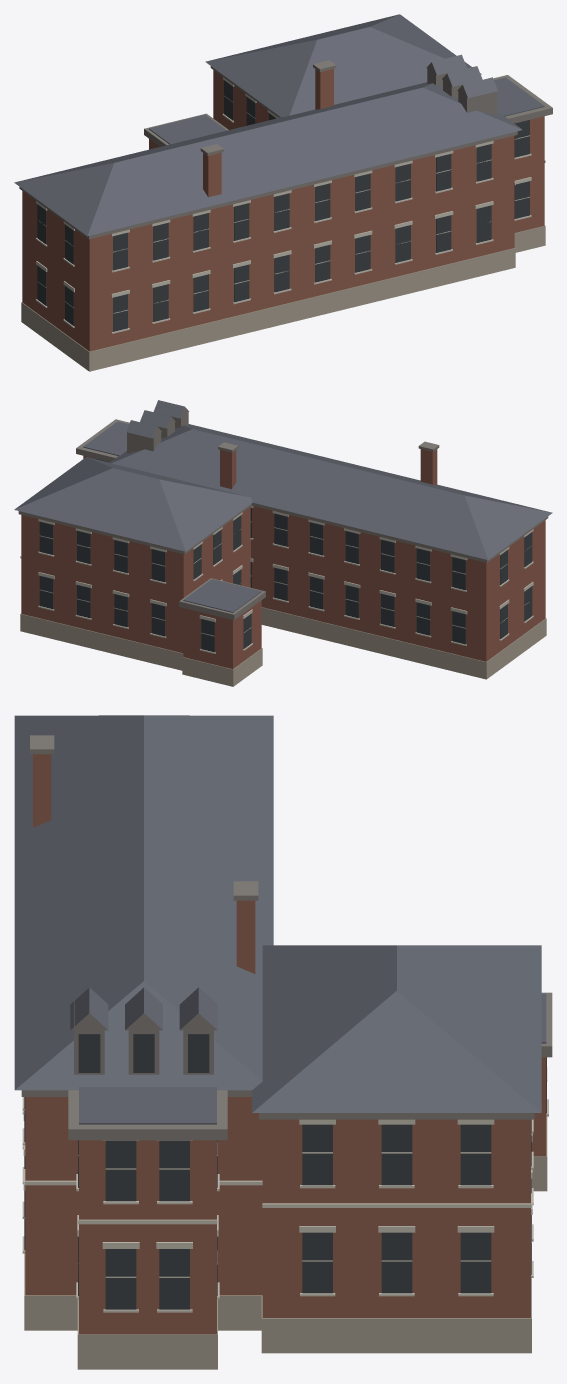
File: hibbard_house_1701_prairie__draft_1904.glb
The picture shows the model from 3 angles, top to bottom: view 1: azimuth 30°, elevation 25°; view 2: azimuth 150°, elevation 25°; view 3: azimuth 270°, elevation 25°; orthographic projection. The views are drawn at different scales.
Parts seen in each view (by area): view 1: hibbard_house_1701_prairie__draft_1904; view 2: hibbard_house_1701_prairie__draft_1904; view 3: hibbard_house_1701_prairie__draft_1904.
Part boxes in pixels (left/top/right/bottom): hibbard_house_1701_prairie__draft_1904: left=14, top=14, right=552, bottom=371; hibbard_house_1701_prairie__draft_1904: left=14, top=400, right=552, bottom=686; hibbard_house_1701_prairie__draft_1904: left=14, top=715, right=552, bottom=1369.
Bounding box in the file's own units: 31.95 × 11.95 × 17.55.
